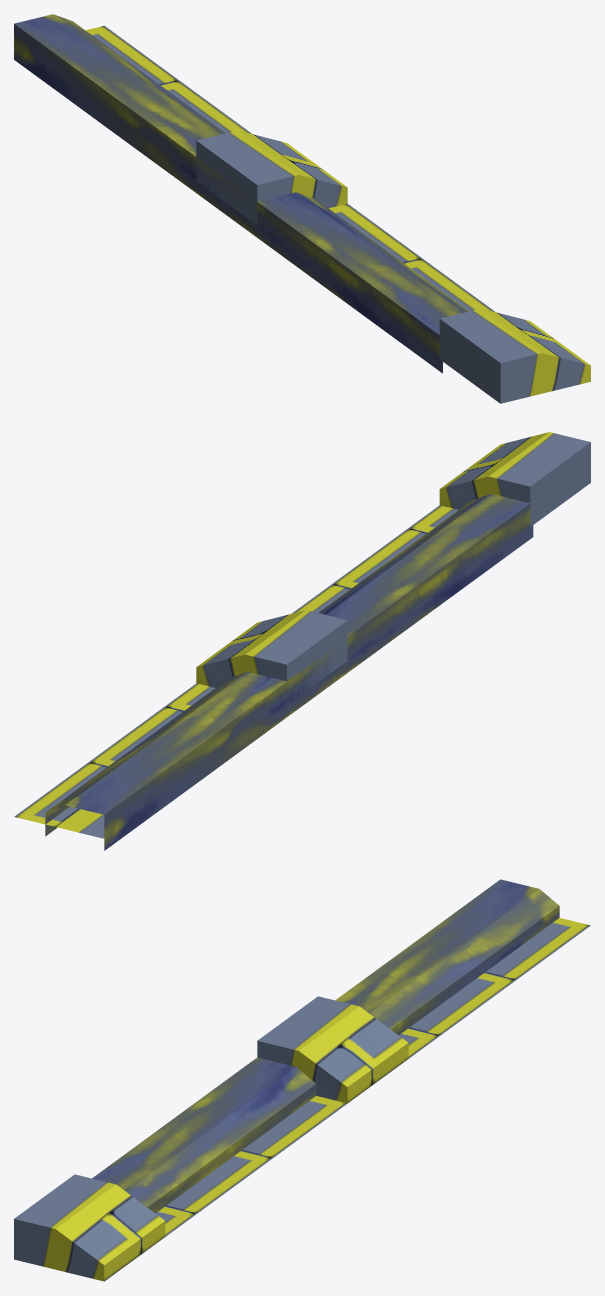
File: RoadCurb.fbx
3 views of the same model, one above another, from view 1: azimuth 30°, elevation 25°; view 2: azimuth 150°, elevation 25°; view 3: azimuth 330°, elevation 25° (orthographic).
Visible parts, largest first — view 1: KebabShop.002; view 2: KebabShop.002; view 3: KebabShop.002.
Part boxes in pixels (box(x1,y1,x2,y2)): KebabShop.002: box(14, 14, 590, 403); KebabShop.002: box(14, 432, 590, 850); KebabShop.002: box(14, 879, 590, 1281).
Bounding box in the file's own units: 10 × 1.07 × 0.5977.
